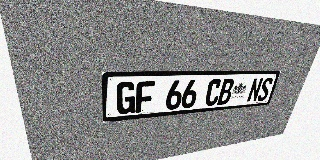6: (165, 80, 184, 110), (180, 80, 199, 109)
B: (217, 79, 235, 105)
C: (204, 79, 223, 106)
F: (135, 81, 155, 113)
G: (116, 81, 136, 115)
N: (246, 78, 264, 102)
S: (256, 77, 274, 101)
